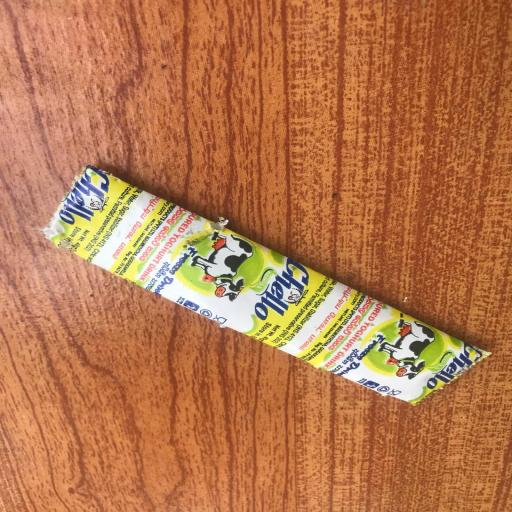waste: (34, 163, 500, 417)
